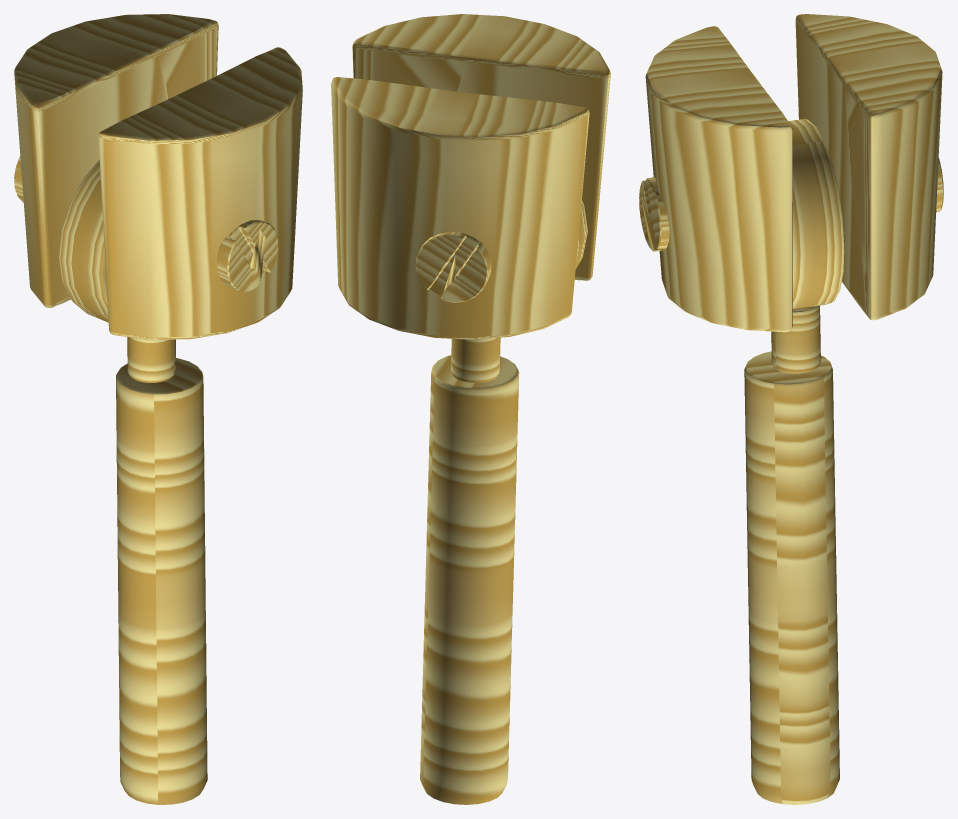
Rendered from right shoulder.obj.
The picture shows the model from 3 angles, left to right: view 1: azimuth 30°, elevation 25°; view 2: azimuth 150°, elevation 25°; view 3: azimuth 270°, elevation 25°; orthographic projection.
Visible parts, largest first — view 1: Blake_right_hand_right_shoulder_Right_shoulder_front, Blake_right_arm_right_hand, Blake_right_hand_right_shoulder_right_shoulder_back, Blake_right_hand_right_shoulder_main_right_shoulder, Blake_right_hand_right_shoulder_Right_shoulder_shrew, Blake_right_hand_right_shoulder_right_shoulder_connector; view 2: Blake_right_hand_right_shoulder_right_shoulder_back, Blake_right_arm_right_hand, Blake_right_hand_right_shoulder_Right_shoulder_front, Blake_right_hand_right_shoulder_Right_shoulder_shrew, Blake_right_hand_right_shoulder_right_shoulder_connector; view 3: Blake_right_arm_right_hand, Blake_right_hand_right_shoulder_Right_shoulder_front, Blake_right_hand_right_shoulder_right_shoulder_back, Blake_right_hand_right_shoulder_main_right_shoulder, Blake_right_hand_right_shoulder_right_shoulder_connector, Blake_right_hand_right_shoulder_Right_shoulder_shrew.
Boxes of the visible parts, x1,y1,x2,y2 form: Blake_right_hand_right_shoulder_Right_shoulder_front: [98, 47, 302, 339]; Blake_right_arm_right_hand: [116, 358, 207, 804]; Blake_right_hand_right_shoulder_right_shoulder_back: [14, 14, 218, 307]; Blake_right_hand_right_shoulder_main_right_shoulder: [58, 160, 108, 322]; Blake_right_hand_right_shoulder_Right_shoulder_shrew: [14, 156, 278, 291]; Blake_right_hand_right_shoulder_right_shoulder_connector: [127, 337, 176, 382]; Blake_right_hand_right_shoulder_right_shoulder_back: [331, 77, 589, 339]; Blake_right_arm_right_hand: [420, 355, 519, 804]; Blake_right_hand_right_shoulder_Right_shoulder_front: [352, 14, 610, 280]; Blake_right_hand_right_shoulder_Right_shoulder_shrew: [415, 231, 491, 302]; Blake_right_hand_right_shoulder_right_shoulder_connector: [451, 337, 500, 382]; Blake_right_arm_right_hand: [744, 351, 839, 804]; Blake_right_hand_right_shoulder_Right_shoulder_front: [645, 26, 792, 332]; Blake_right_hand_right_shoulder_right_shoulder_back: [795, 14, 942, 320]; Blake_right_hand_right_shoulder_main_right_shoulder: [788, 119, 844, 309]; Blake_right_hand_right_shoulder_right_shoulder_connector: [771, 305, 820, 373]; Blake_right_hand_right_shoulder_Right_shoulder_shrew: [639, 158, 943, 251].
Bounding box in the file's own units: 0.9553 × 2.7 × 1.03.
